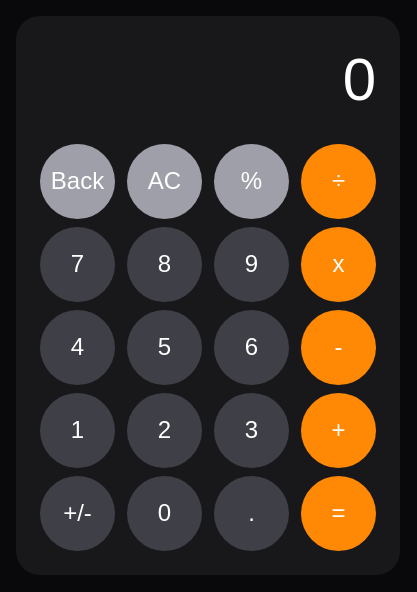
Test case: number entry › starts a decimal operand after an operator
Click the button "2" at (164, 430), box [127,392,202,468]
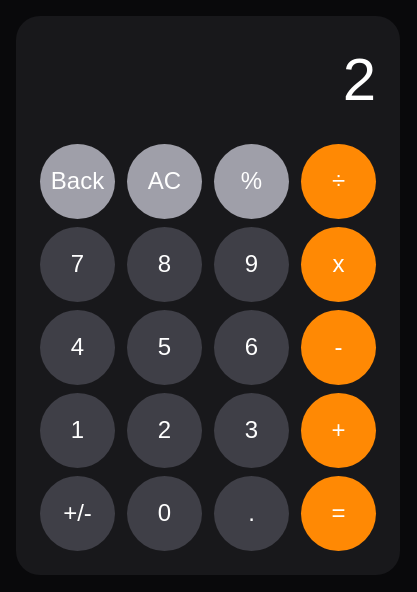
Click the button "+" at (338, 430), box [301,392,376,468]
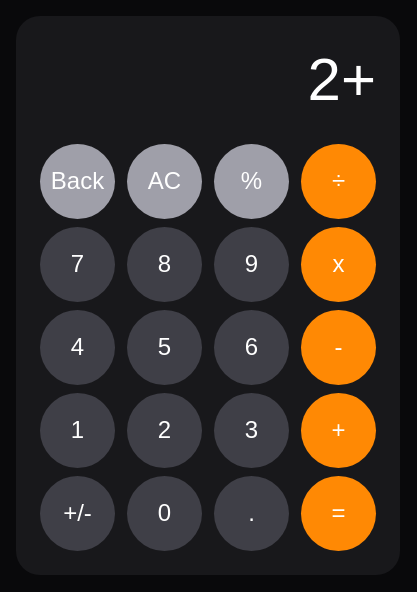
Click the button "." at (252, 513), box [214,476,289,550]
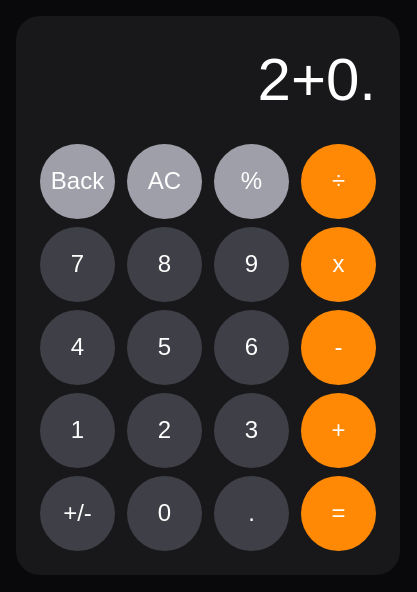
Click the button "5" at (164, 347), box [127,310,202,384]
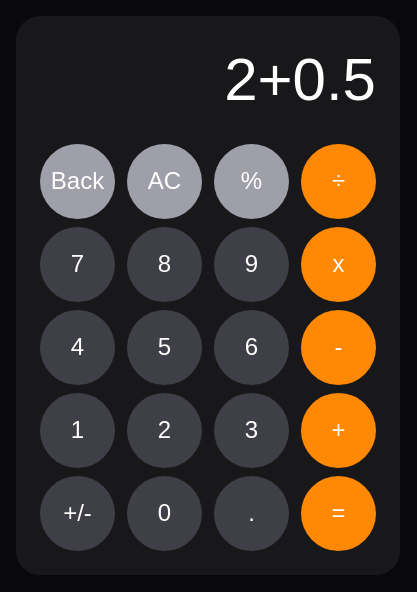
Click the button "=" at (338, 513), box [301,476,376,550]
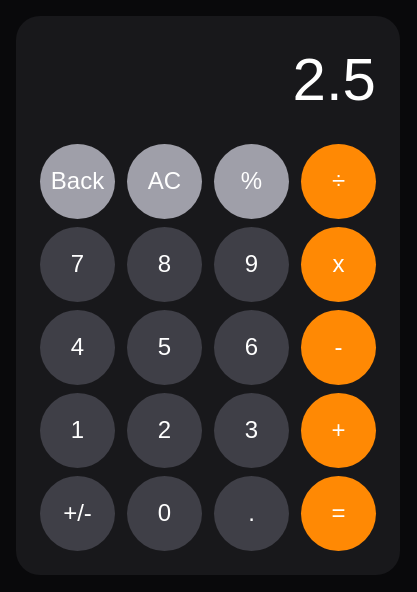
Expected: the element showing "2.5" is shown, [293,46,376,112]
